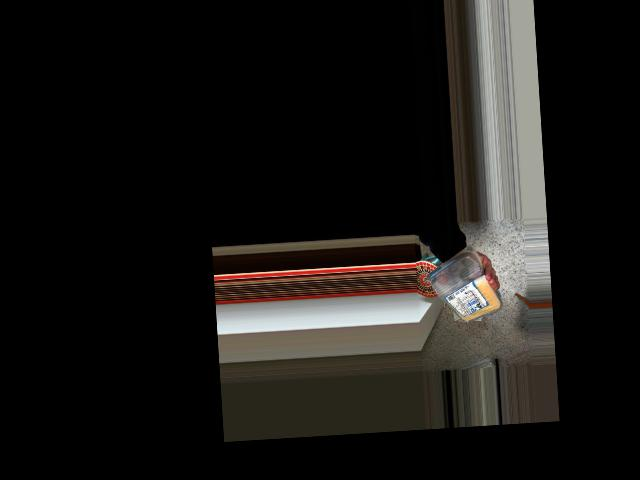cheese: (424, 253, 495, 331)
